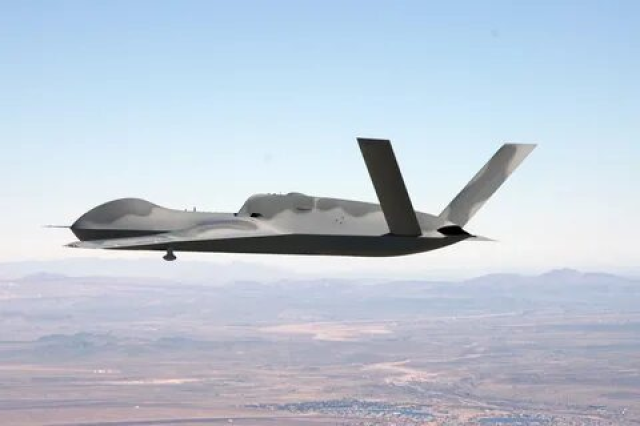military drone: (41, 137, 538, 261)
